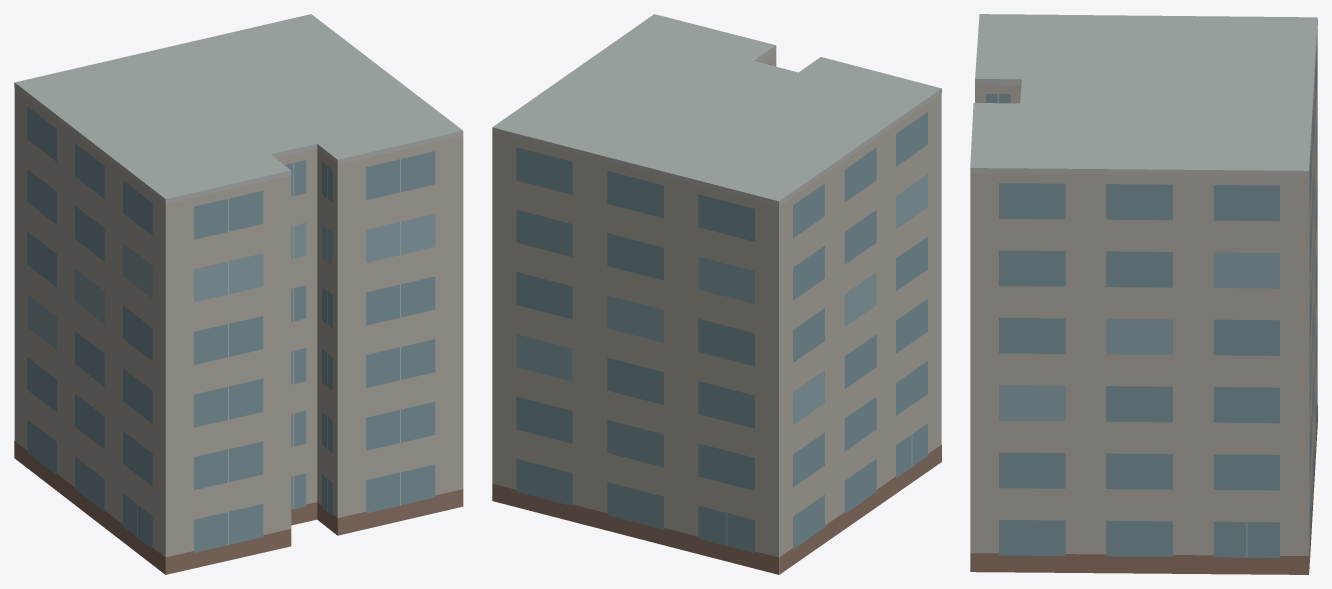
The model's file is survey-upis-32669761.glb.
3 views of the same model, side by side, from view 1: azimuth 30°, elevation 25°; view 2: azimuth 150°, elevation 25°; view 3: azimuth 270°, elevation 25° (orthographic). The views are drawn at different scales.
Visible parts, largest first — view 1: survey-upis-32669761.tmp; view 2: survey-upis-32669761.tmp; view 3: survey-upis-32669761.tmp.
Boxes of the visible parts, bbox=[...] form: survey-upis-32669761.tmp: bbox=[14, 14, 463, 574]; survey-upis-32669761.tmp: bbox=[492, 14, 941, 574]; survey-upis-32669761.tmp: bbox=[970, 14, 1317, 574].
Bounding box in the file's own units: 15.24 × 18.3 × 14.28.
